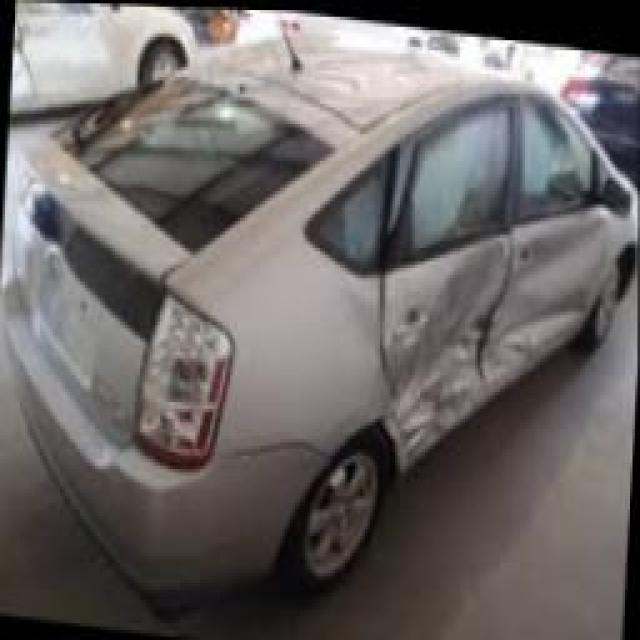Door: (380, 88, 605, 470)
